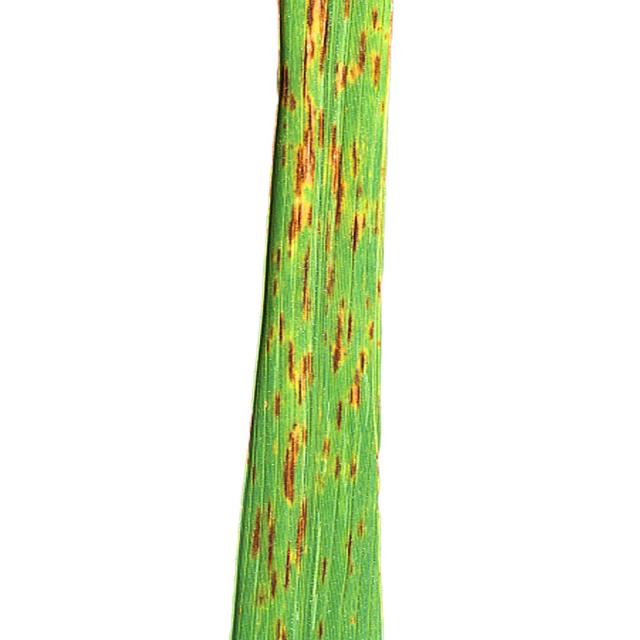Narrow brown: (204, 0, 450, 640)
